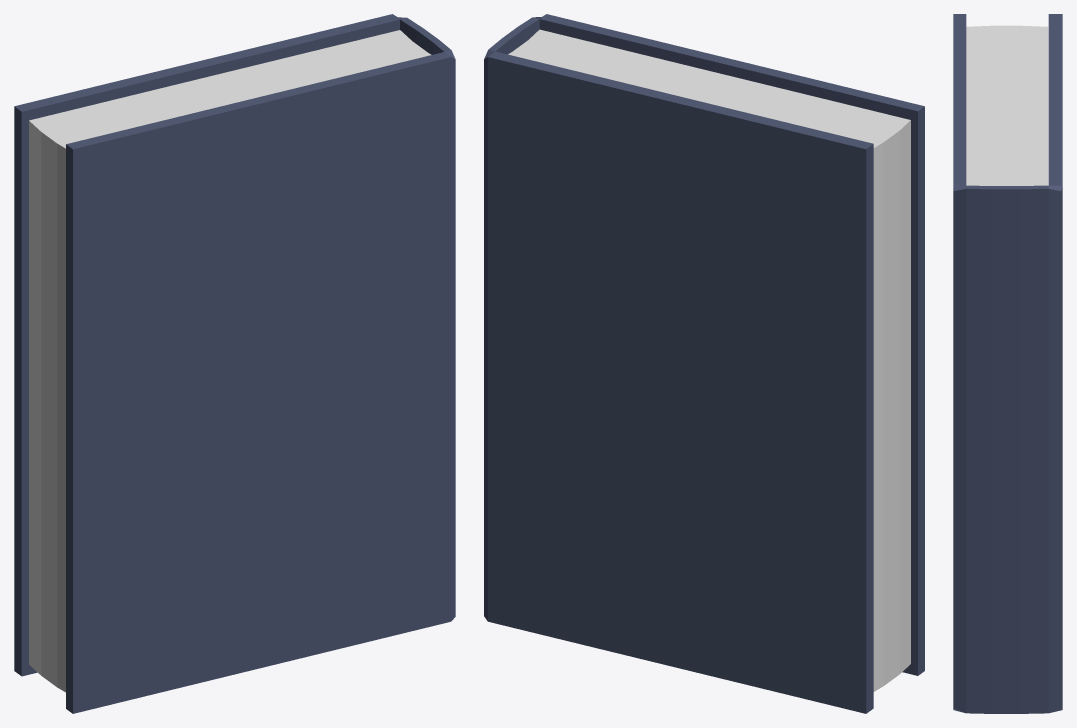
The model's file is VJ_Llibre_Blau.fbx.
3 renders of one model, left to right at view 1: azimuth 30°, elevation 25°; view 2: azimuth 150°, elevation 25°; view 3: azimuth 270°, elevation 25°, orthographic. The views are drawn at different scales.
Visible parts, largest first — view 1: Llibre_Blau; view 2: Llibre_Blau; view 3: Llibre_Blau.
Part boxes in pixels (<box>): Llibre_Blau: <box>14,14,455,713</box>; Llibre_Blau: <box>484,14,924,713</box>; Llibre_Blau: <box>953,14,1062,713</box>.
Size of the model in its own units: 3.35 by 4.67 by 0.8819.
